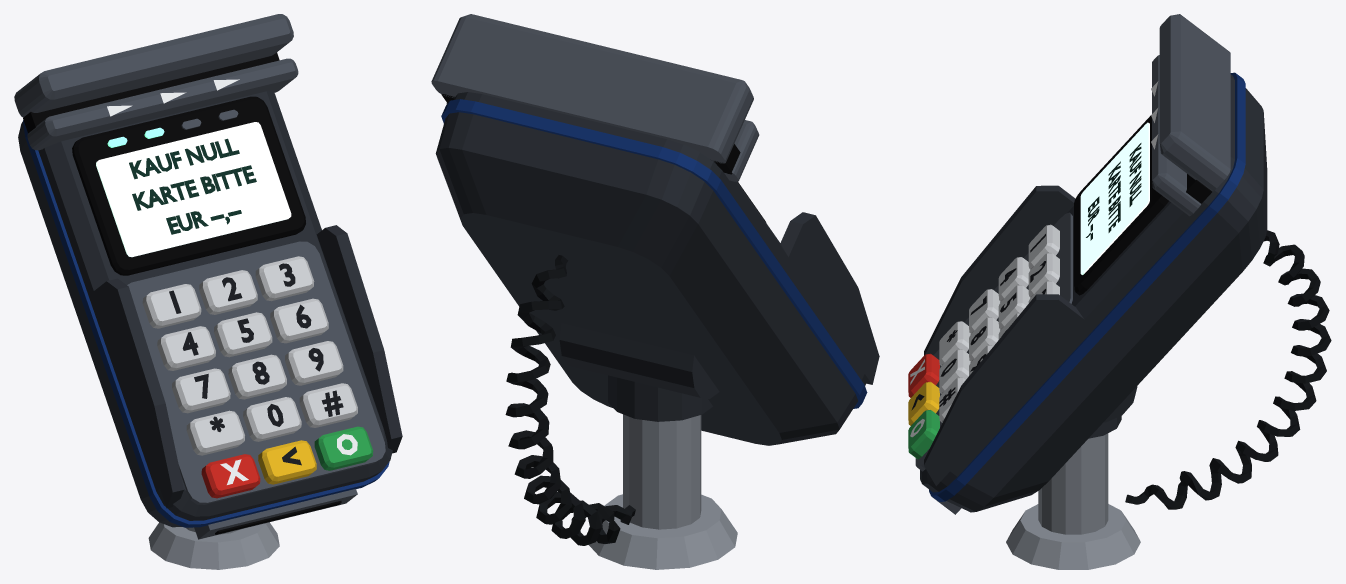
Rendered from kartenterminal.glb.
The picture shows the model from 3 angles, left to right: view 1: azimuth 30°, elevation 25°; view 2: azimuth 150°, elevation 25°; view 3: azimuth 270°, elevation 25°; orthographic projection. The views are drawn at different scales.
Parts seen in each view (by area): view 1: Tastenfeld, Display, Oberschale, Displayrahmen, Leser_hinten, Leser_vorn, Sichtschutz_L, Sichtschutz_R, Zierstreifen, Fussring, Unterschale, Leser_Boden (+20 smaller); view 2: Unterschale, Leser_hinten, Kabel, Rohr, Zierstreifen, Sichtschutz_L, Gelenk, Fussring, Oberschale, Manschette, Leser_vorn; view 3: Unterschale, Leser_hinten, Sichtschutz_R, Oberschale, Kabel, Zierstreifen, Sichtschutz_L, Fussring, Rohr, Display, Displayrahmen, Leser_vorn (+13 smaller).
Part boxes in pixels (<box>): Tastenfeld: <box>127,241,385,504</box>; Display: <box>96,122,291,257</box>; Oberschale: <box>38,91,392,520</box>; Displayrahmen: <box>72,96,305,275</box>; Leser_hinten: <box>14,14,293,117</box>; Leser_vorn: <box>27,58,298,150</box>; Sichtschutz_L: <box>92,278,183,508</box>; Sichtschutz_R: <box>316,225,402,453</box>; Zierstreifen: <box>23,120,389,527</box>; Fussring: <box>148,522,279,569</box>; Unterschale: <box>18,121,182,527</box>; Leser_Boden: <box>23,52,279,133</box>; Unterschale: <box>435,112,857,445</box>; Leser_hinten: <box>431,14,753,163</box>; Kabel: <box>505,255,635,545</box>; Rohr: <box>623,414,701,529</box>; Zierstreifen: <box>441,99,867,408</box>; Sichtschutz_L: <box>780,212,879,384</box>; Gelenk: <box>559,323,719,398</box>; Fussring: <box>588,494,737,569</box>; Oberschale: <box>453,92,867,385</box>; Manschette: <box>608,375,712,421</box>; Leser_vorn: <box>446,103,759,181</box>; Unterschale: <box>947,88,1267,512</box>; Leser_hinten: <box>1159,14,1230,191</box>; Sichtschutz_R: <box>924,294,1087,485</box>; Oberschale: <box>920,74,1234,492</box>; Kabel: <box>1125,230,1331,509</box>; Zierstreifen: <box>929,72,1245,501</box>; Sichtschutz_L: <box>924,185,1075,355</box>; Fussring: <box>1006,504,1140,569</box>; Rohr: <box>1038,433,1108,534</box>; Display: <box>1080,122,1149,274</box>; Displayrahmen: <box>1074,115,1168,295</box>; Leser_vorn: <box>1152,55,1200,216</box>.
Bounding box in the file's own units: 0.122 × 0.2145 × 0.1755.
